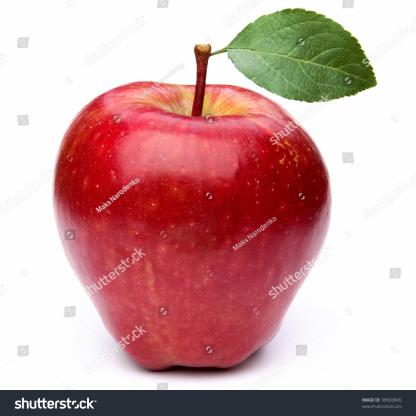apple leaf: (227, 5, 381, 109)
